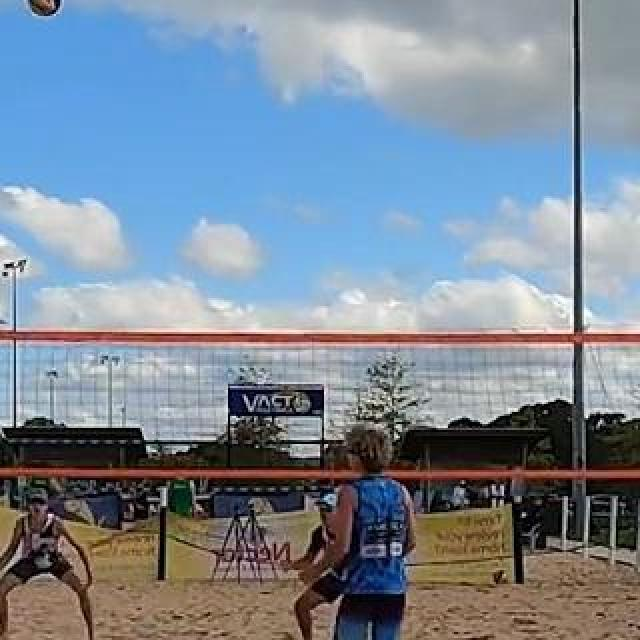volleyball: (24, 0, 60, 16), (493, 569, 509, 585)
